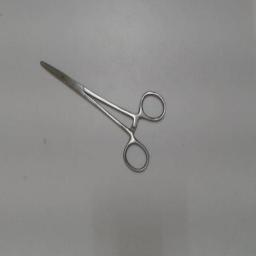Mayo Needle Holder: (30, 52, 174, 178)
